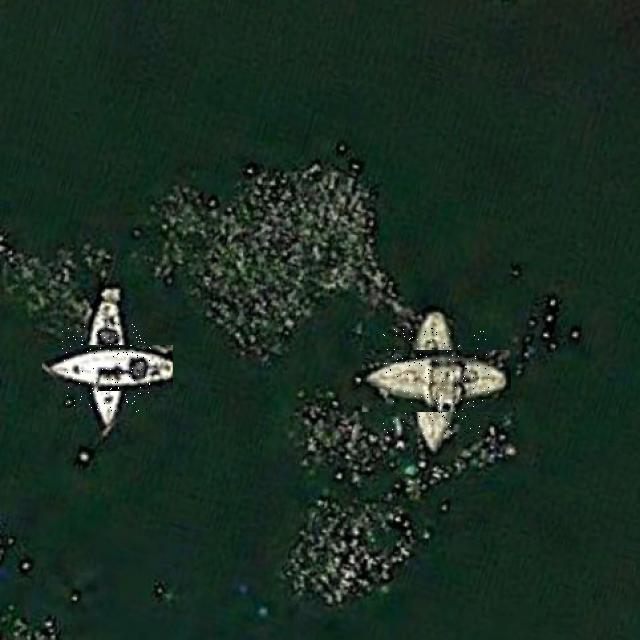boat: (383, 328, 489, 434), (62, 324, 152, 412)
